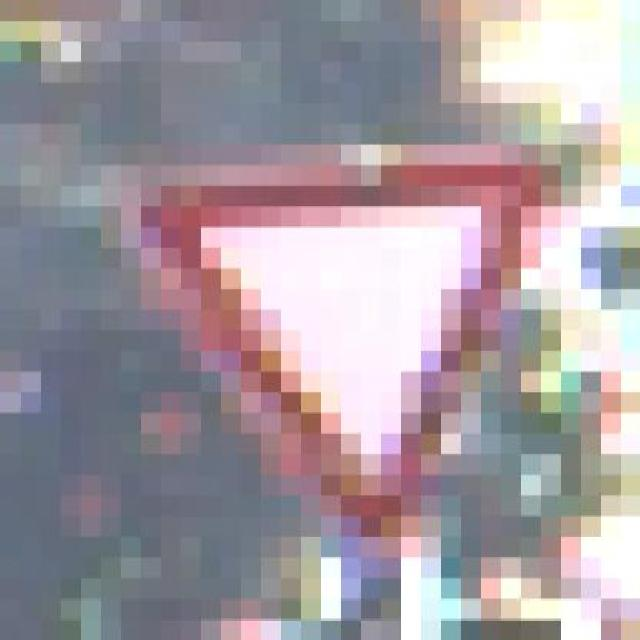Give Way: (40, 103, 580, 517)
